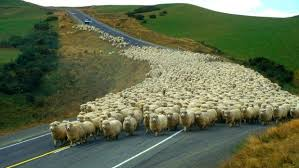sheep: (100, 118, 122, 140), (178, 108, 196, 133), (64, 122, 85, 143), (194, 109, 215, 129), (148, 112, 167, 133), (48, 121, 65, 144), (223, 108, 241, 128), (271, 103, 291, 121), (121, 116, 138, 134), (241, 105, 256, 122), (165, 111, 178, 130), (141, 111, 152, 132), (256, 108, 265, 125)
